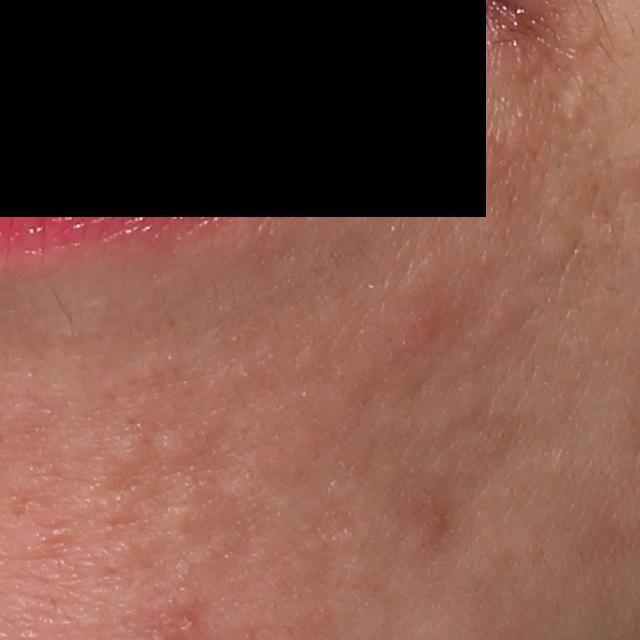hypertrophic_scar: (69, 475, 140, 534), (469, 293, 524, 357), (530, 224, 579, 272), (162, 497, 208, 545), (149, 425, 195, 468), (106, 432, 145, 469), (558, 82, 590, 123)
